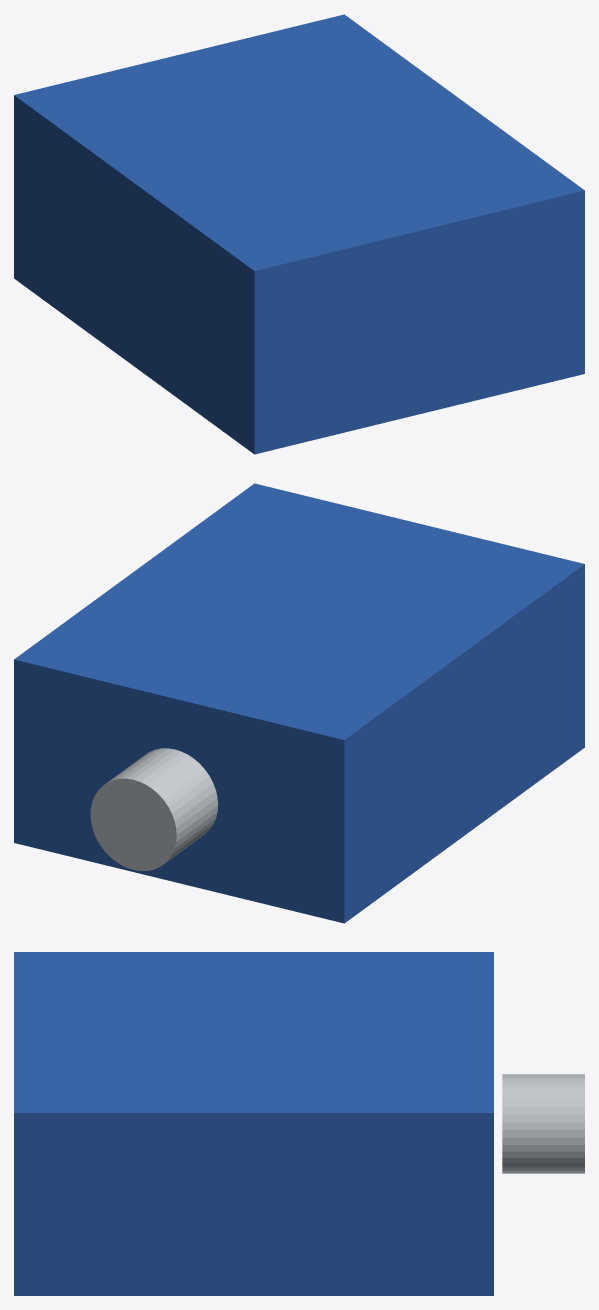
The model's file is servo.glb.
The picture shows the model from 3 angles, top to bottom: view 1: azimuth 30°, elevation 25°; view 2: azimuth 150°, elevation 25°; view 3: azimuth 270°, elevation 25°; orthographic projection.
Visible parts, largest first — view 1: SG90_carcaca; view 2: SG90_carcaca, SG90_saida_representada; view 3: SG90_carcaca, SG90_saida_representada.
Part boxes in pixels (box(x1,y1,x2,y2)): SG90_carcaca: box(14, 14, 584, 454); SG90_carcaca: box(14, 483, 584, 923); SG90_saida_representada: box(90, 748, 217, 870); SG90_carcaca: box(14, 952, 493, 1295); SG90_saida_representada: box(502, 1074, 584, 1173).
Size of the model in its own units: 0.023 by 0.0122 by 0.0345.
